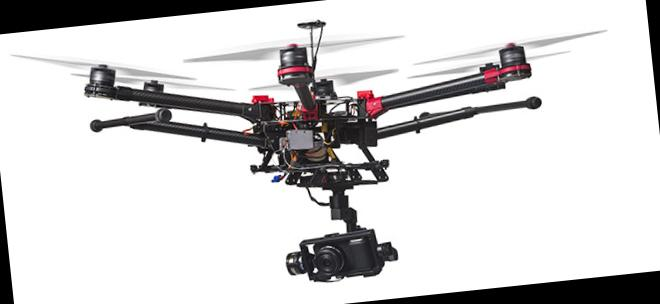drone: (0, 0, 601, 179)
